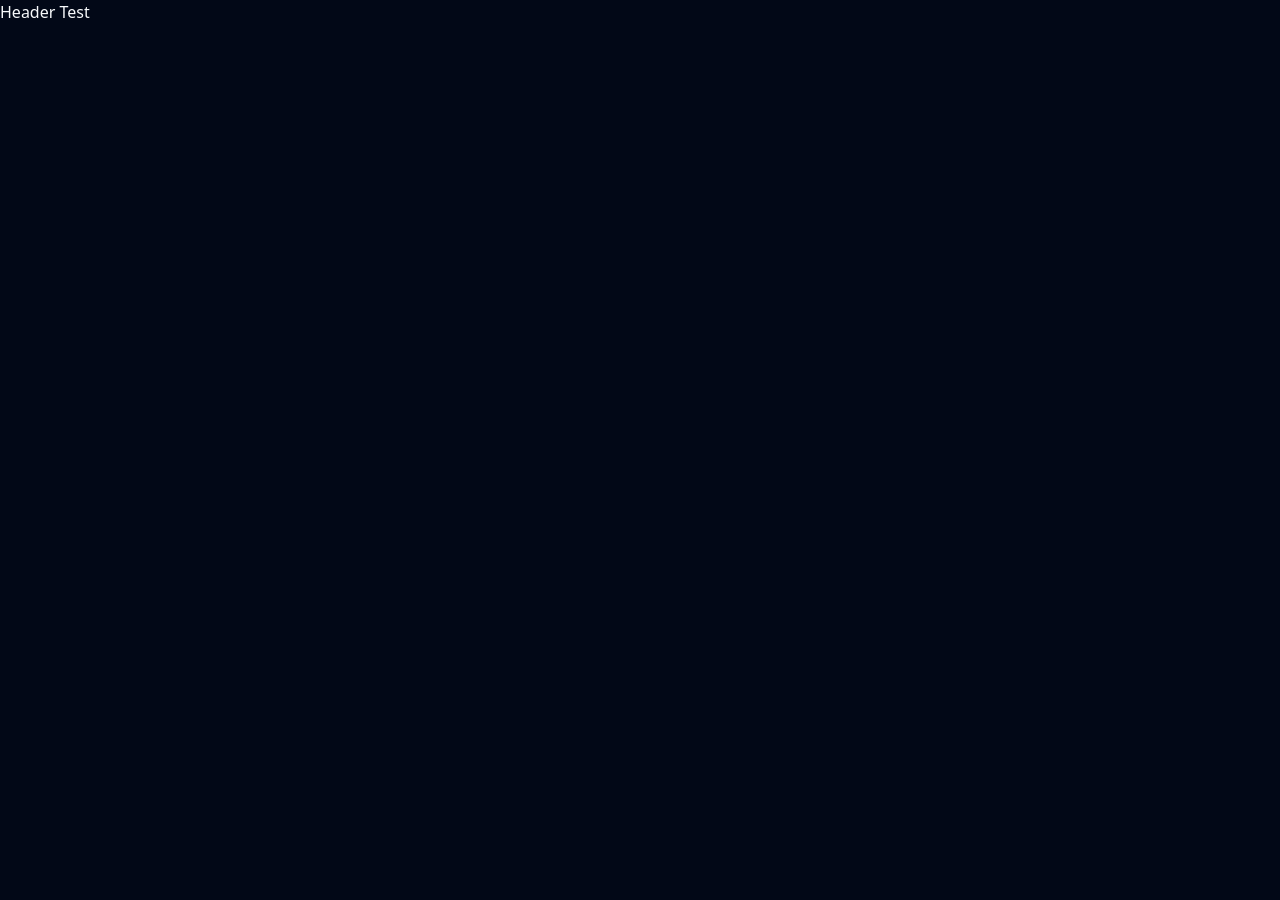
Test: Dialog组件系统 › DialogHeader › 应该包含标题和描述
The image size is (1280, 900).
Step 1. Click the button "Header Test" → (45,12), box [0, 0, 90, 24]
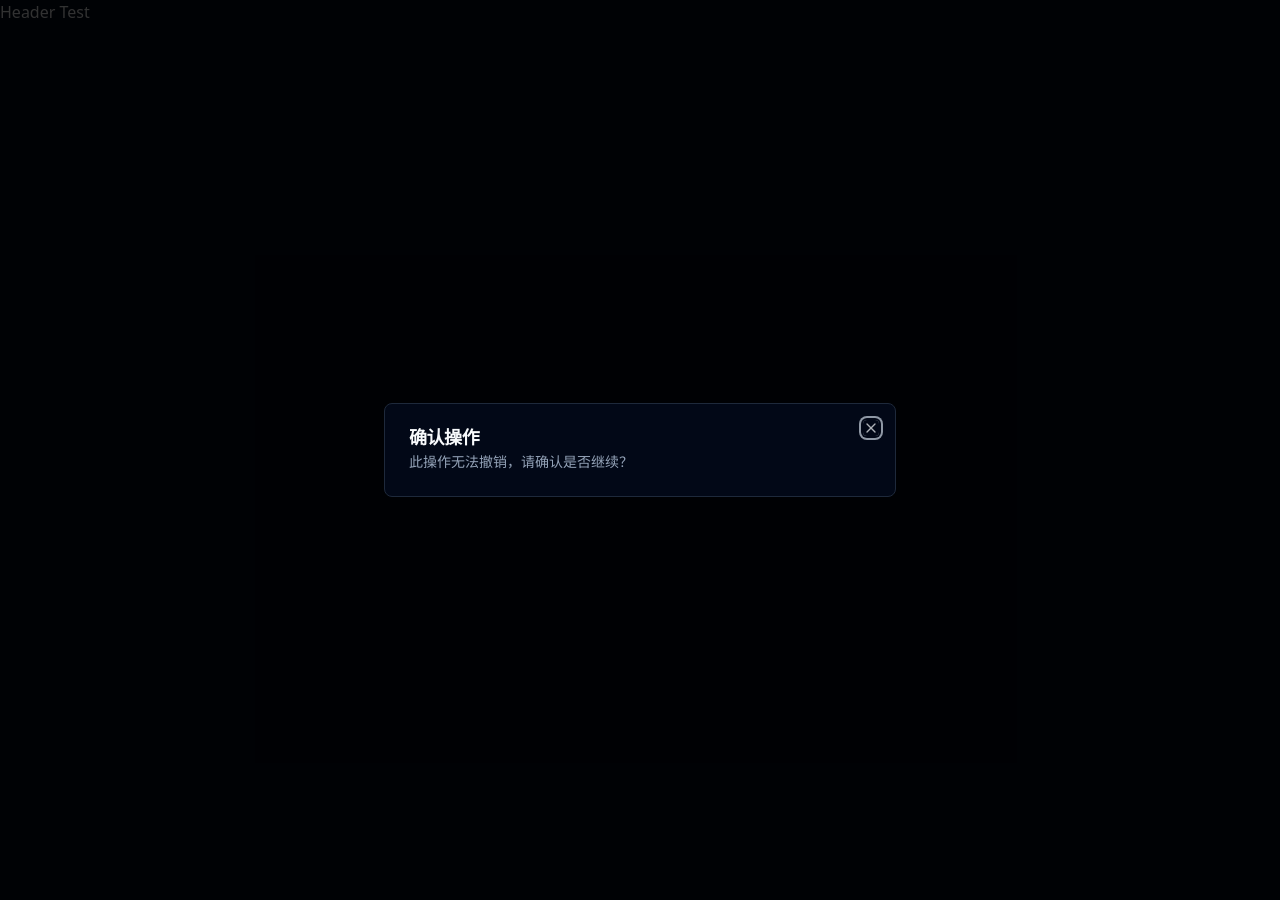
Expected: the heading "确认操作" is shown, [409, 425, 479, 449]
Expected: the text "此操作无法撤销，请确认是否继续？" is shown, [409, 452, 633, 471]
